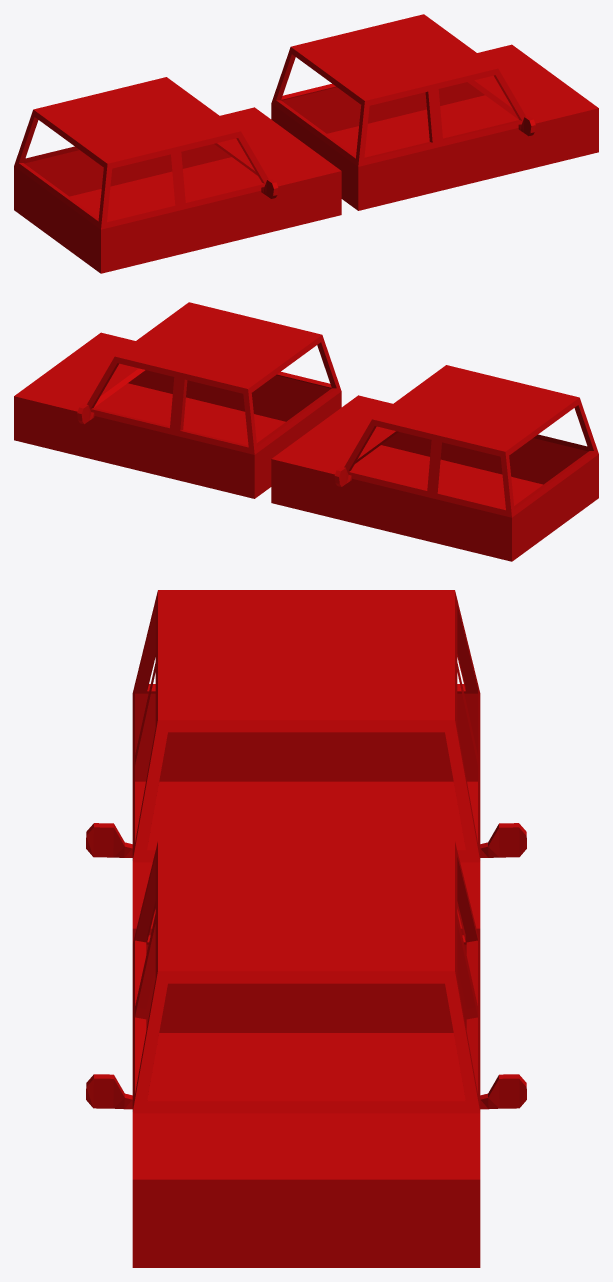
The model's file is wrecked_car_body.obj.
3 views of the same model, one above another, from view 1: azimuth 30°, elevation 25°; view 2: azimuth 150°, elevation 25°; view 3: azimuth 270°, elevation 25° (orthographic). The views are drawn at different scales.
Parts seen in each view (by area): view 1: Cube.224_Cube.005, Cube.225_Cube.004; view 2: Cube.224_Cube.005, Cube.225_Cube.004; view 3: Cube.225_Cube.004, Cube.224_Cube.005.
Boxes of the visible parts, left/top/right/bottom form: Cube.224_Cube.005: left=14, top=77, right=341, bottom=273; Cube.225_Cube.004: left=271, top=14, right=598, bottom=210; Cube.224_Cube.005: left=271, top=365, right=598, bottom=561; Cube.225_Cube.004: left=14, top=302, right=341, bottom=498; Cube.225_Cube.004: left=86, top=841, right=526, bottom=1267; Cube.224_Cube.005: left=86, top=590, right=526, bottom=943.
Size of the model in its own units: 8.23 by 1.61 by 3.16.
